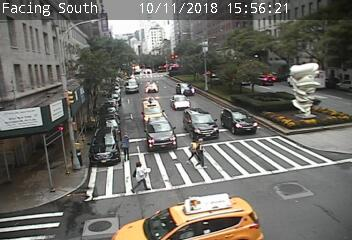car: (184, 108, 218, 141), (221, 108, 257, 134), (147, 117, 176, 149), (142, 100, 163, 125), (171, 95, 190, 109), (176, 83, 194, 97), (145, 81, 158, 93)
